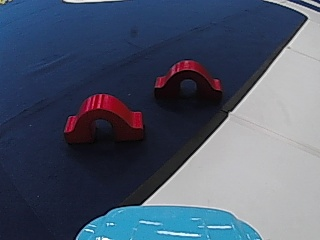bridge: (59, 89, 146, 145), (153, 55, 225, 103)
